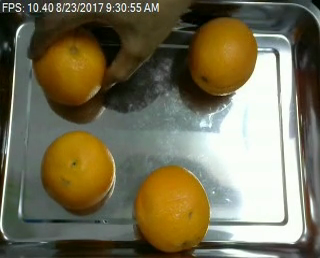Orange: (135, 166, 211, 252), (40, 131, 115, 210), (187, 17, 256, 94)
